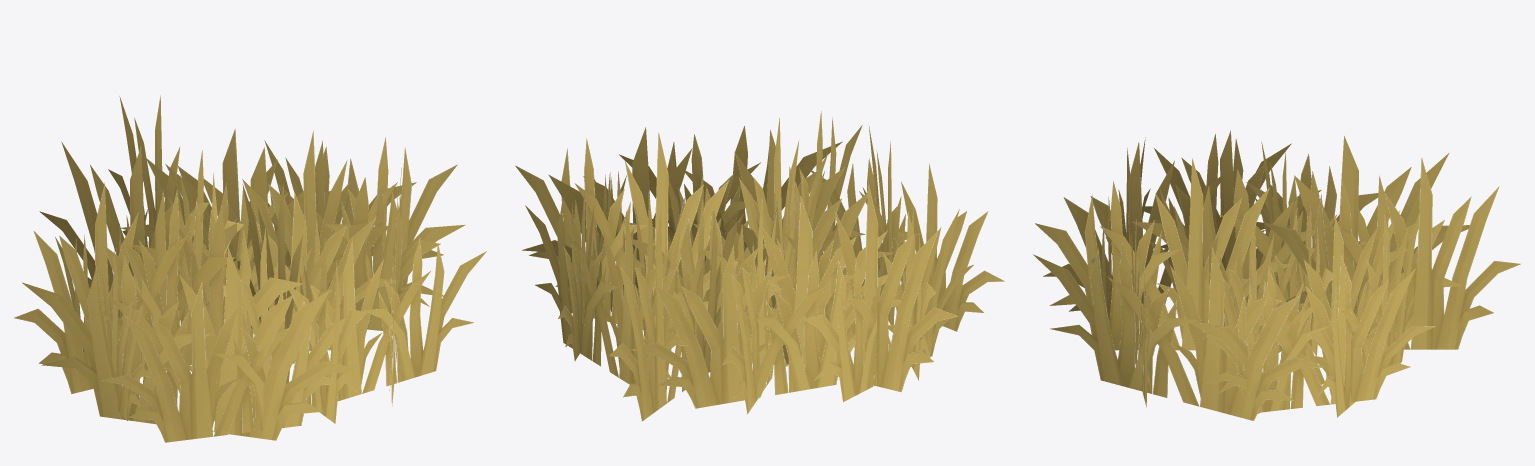
Rendered from M_glass01.fbx.
3 renders of one model, left to right at view 1: azimuth 30°, elevation 25°; view 2: azimuth 150°, elevation 25°; view 3: azimuth 270°, elevation 25°, orthographic. The views are drawn at different scales.
Visible parts, largest first — view 1: M_glass01; view 2: M_glass01; view 3: M_glass01.
Boxes of the visible parts, x1,y1,x2,y2 form: M_glass01: (14, 95, 486, 442); M_glass01: (515, 111, 1004, 421); M_glass01: (1033, 130, 1520, 420).
Size of the model in its own units: 1.89 by 1.03 by 1.9.
